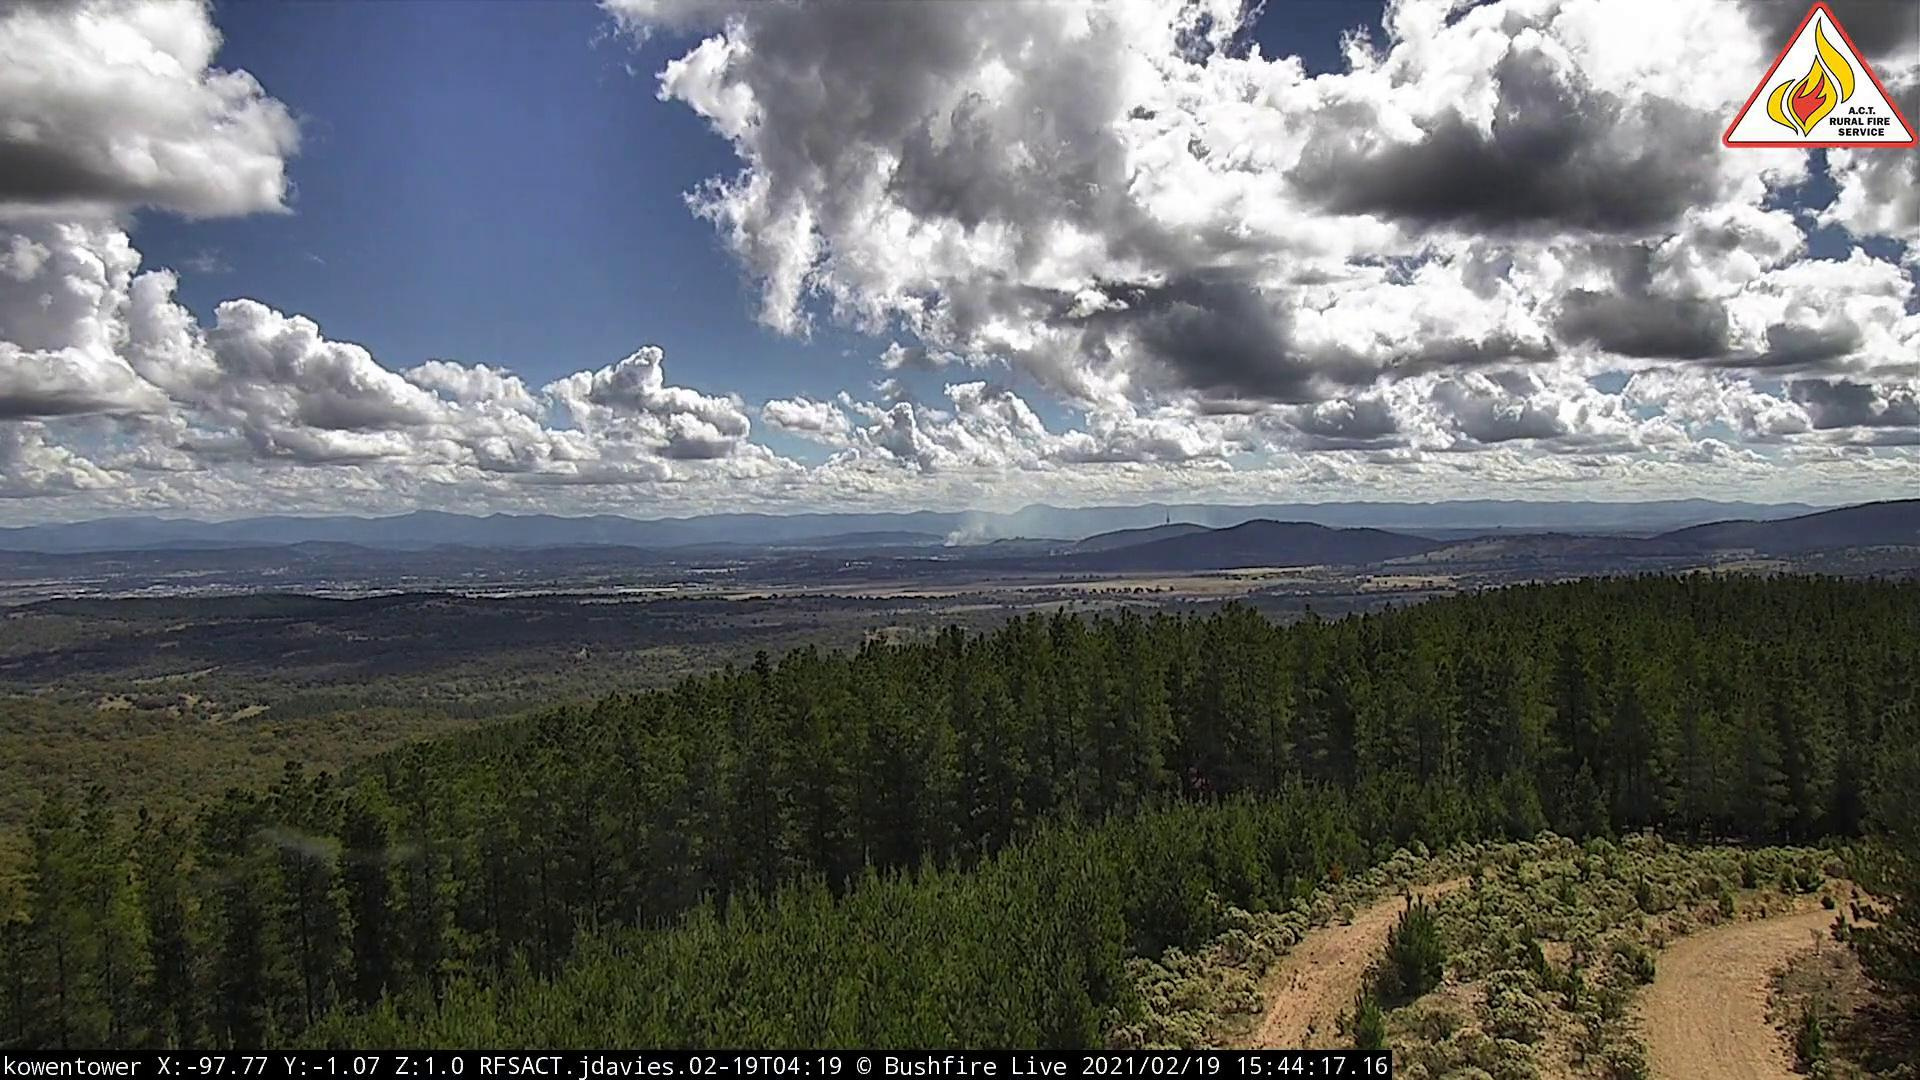instance_salient_object: (945, 502, 1011, 550), (600, 534, 625, 554)
